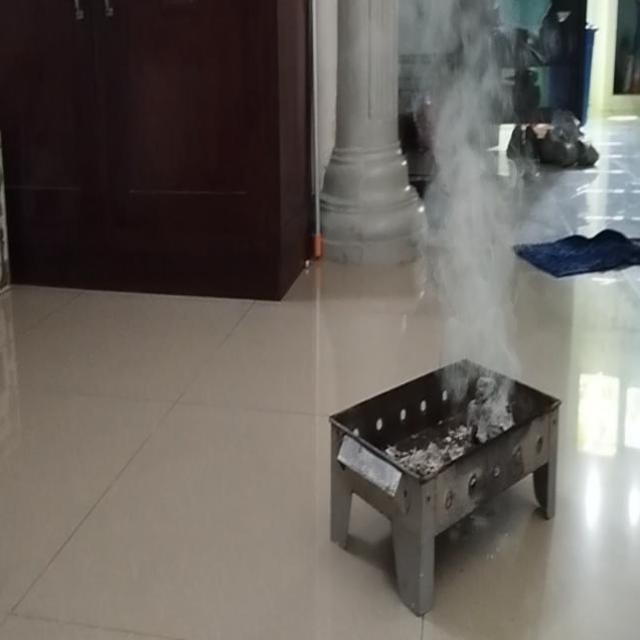fire: (426, 12, 512, 362)
